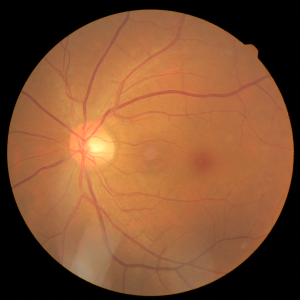healthy_eye: (43, 85, 239, 204)
